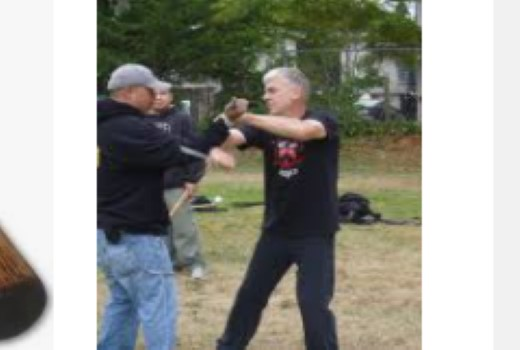baston_e: (169, 191, 189, 212)
